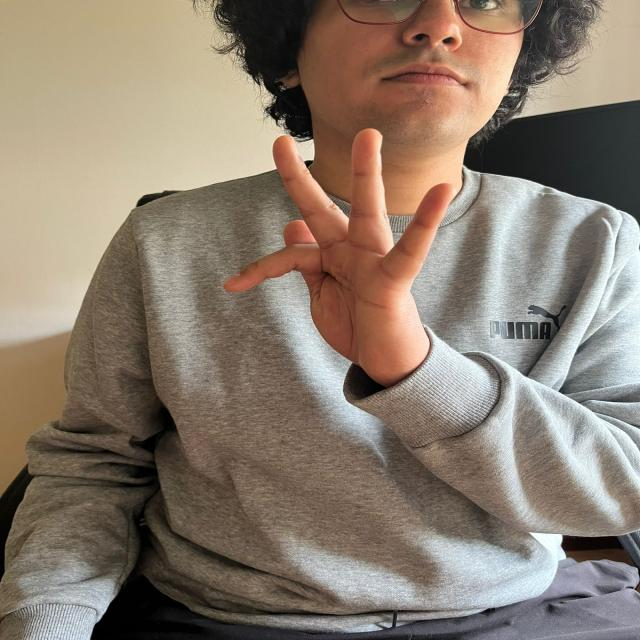F: (223, 122, 460, 381)
